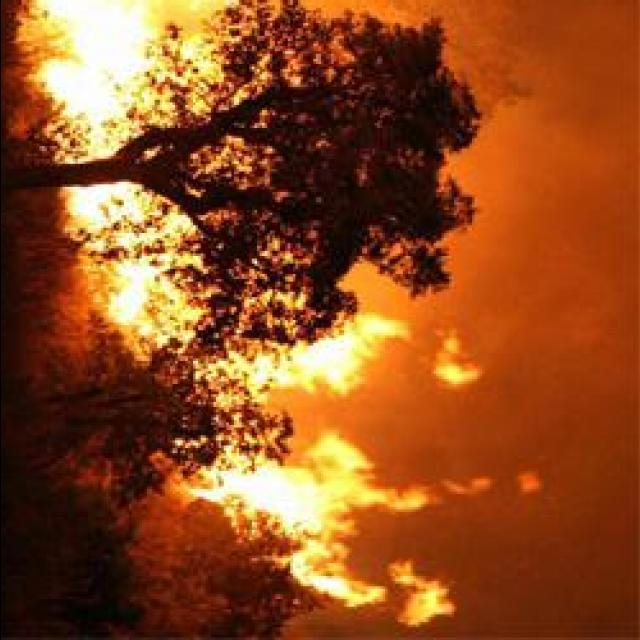fire: (275, 436, 371, 502), (41, 0, 148, 51), (45, 52, 118, 120), (243, 472, 318, 528), (303, 334, 359, 392), (306, 562, 378, 602), (70, 186, 128, 220), (351, 314, 411, 346), (115, 288, 144, 319)
smoke: (563, 2, 640, 225), (530, 211, 636, 362), (480, 538, 616, 636)
